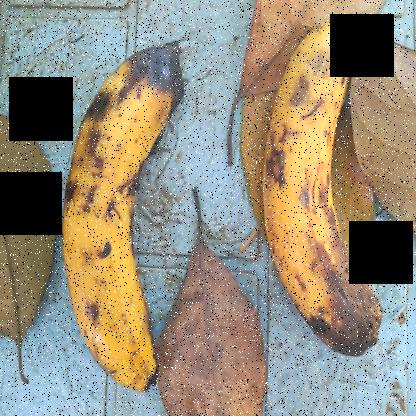overripe: (42, 24, 205, 409), (244, 8, 390, 366)
